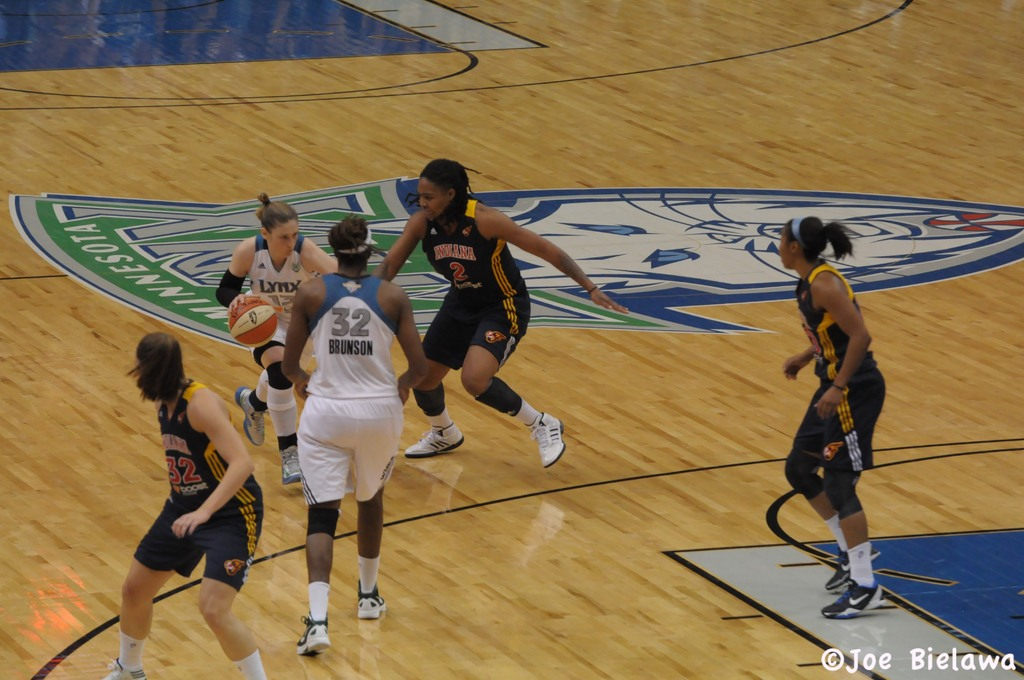Ball: (226, 296, 277, 348)
